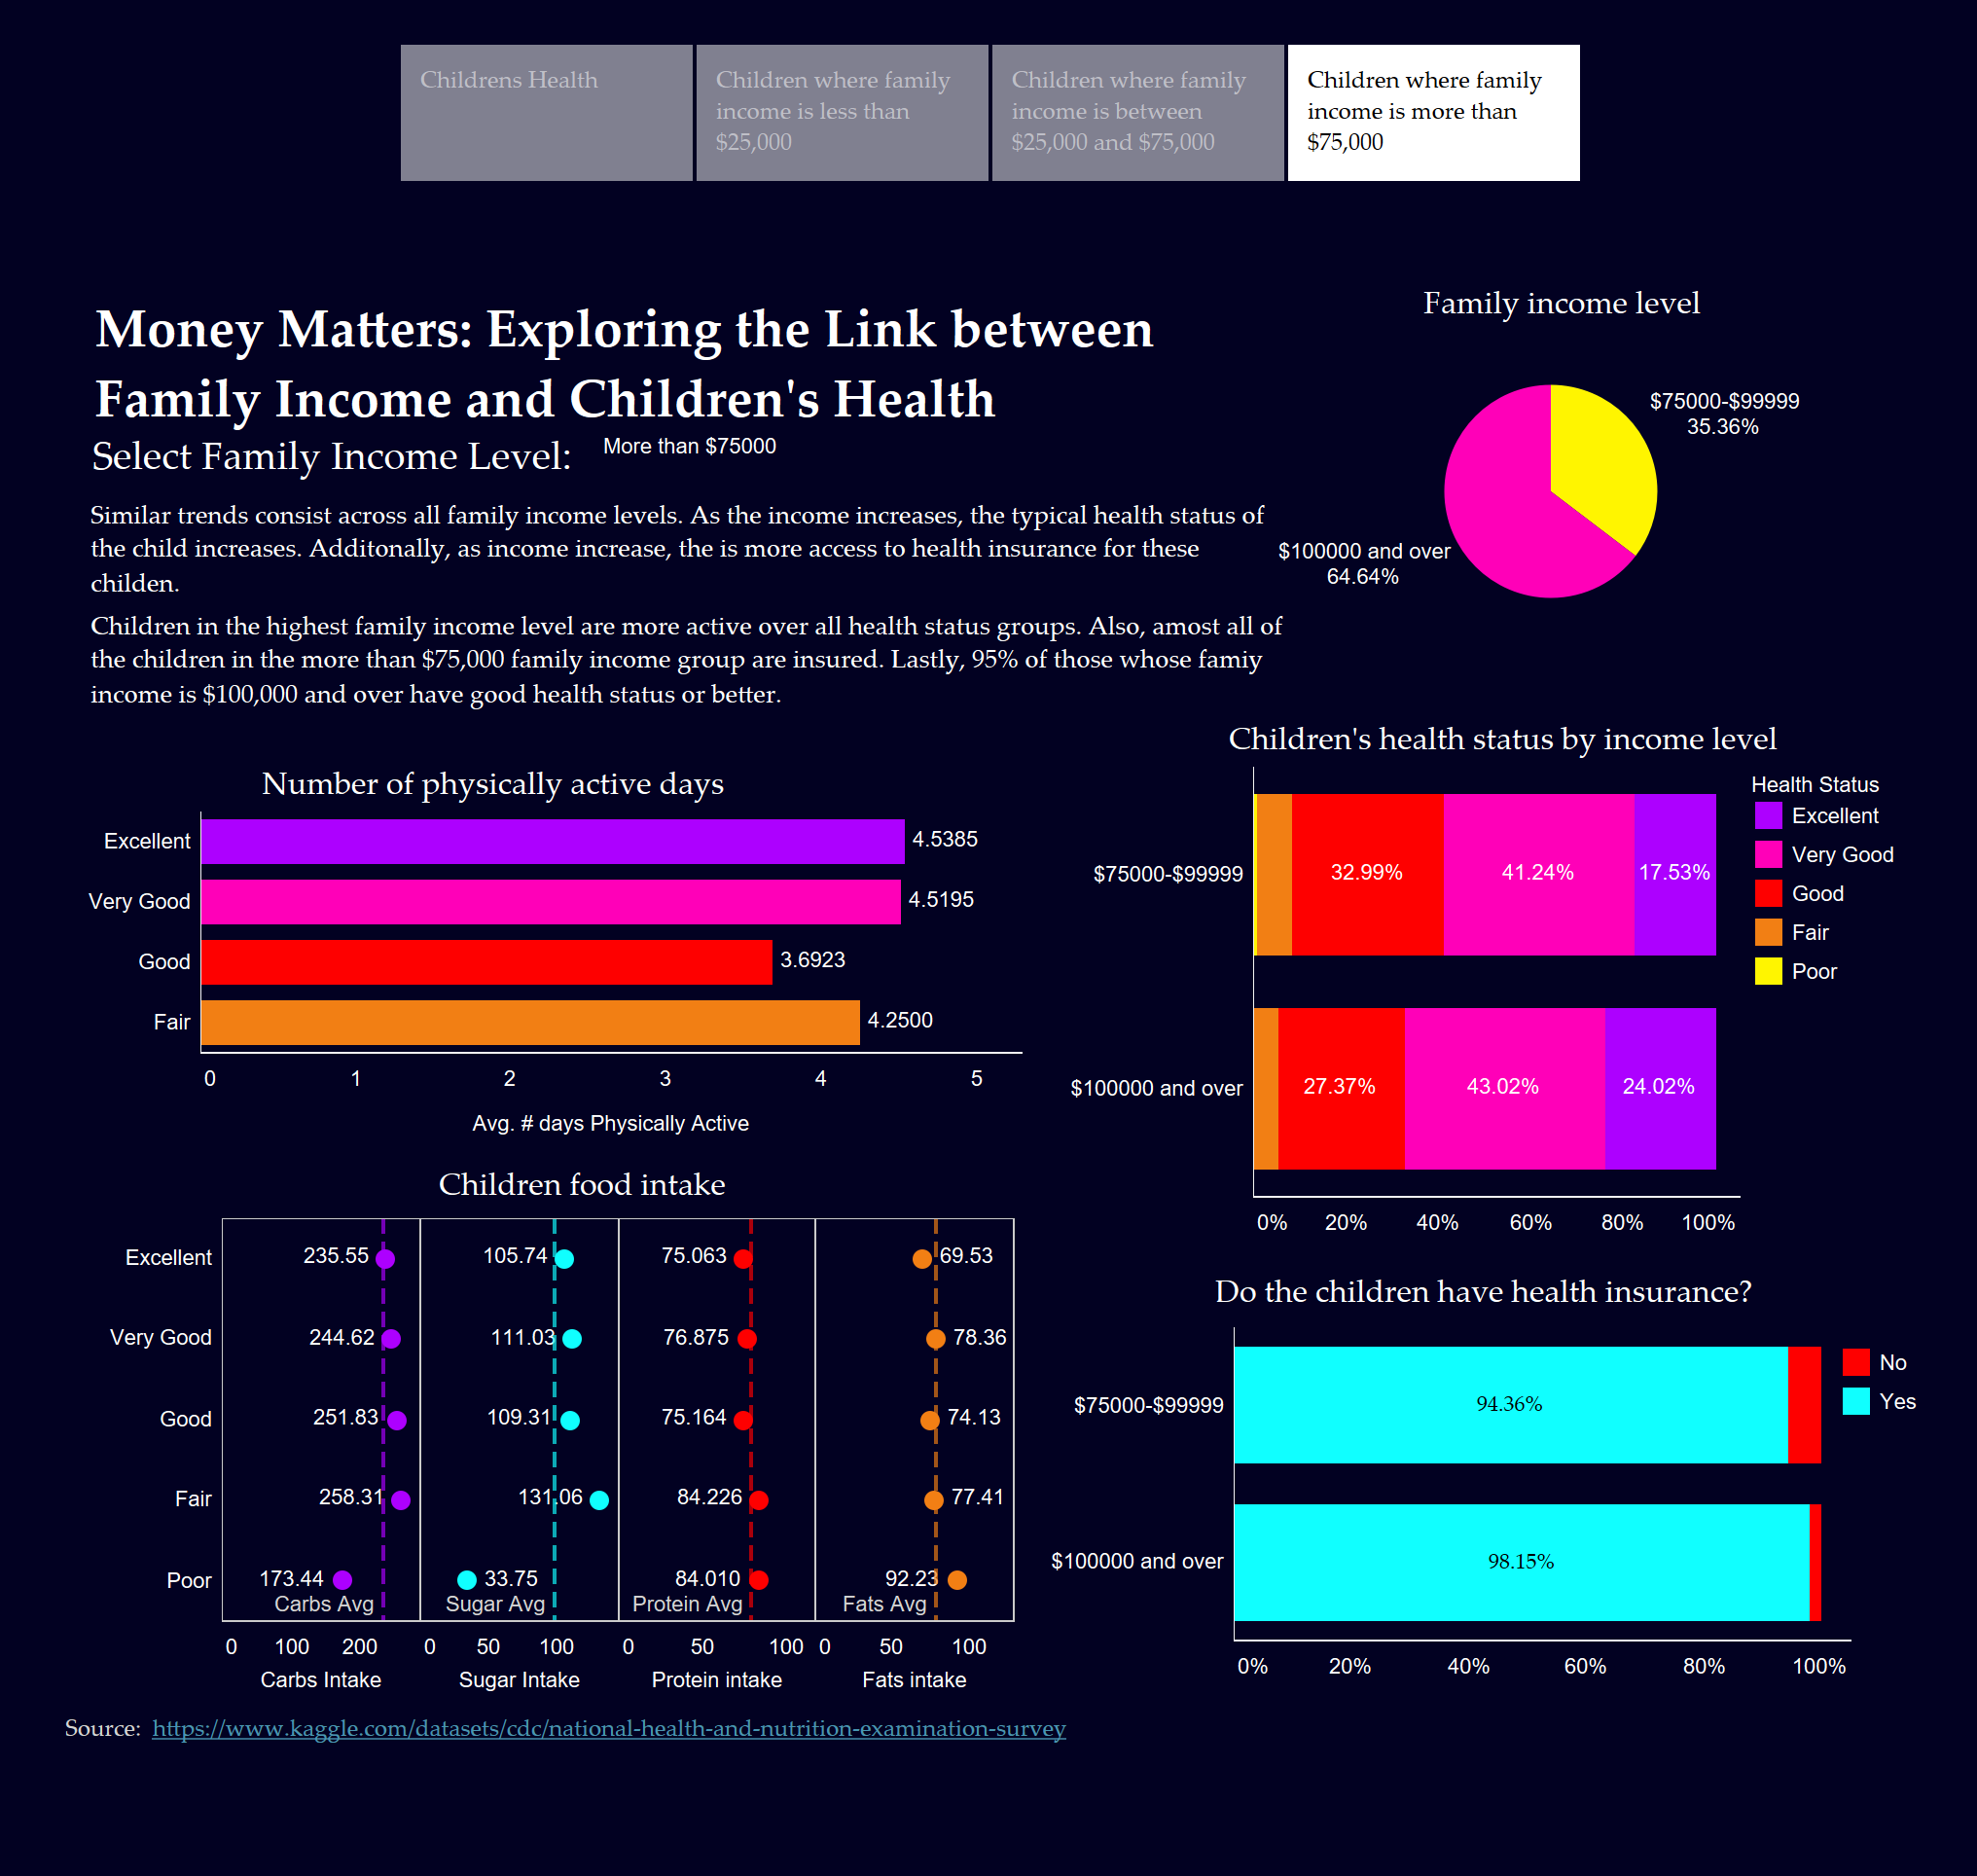

The dashboard page shown, as its layout file describes it:
{"tool":"tableau","page":{"name":"Trends","canvas":[1000,800],"ordinal":0},"visuals":[{"type":"text","box":[38,16,572,123]},{"type":"text","box":[721,20,160,52]},{"type":"worksheet","title":"Income","mark":"Pie","box":[611,34,356,219]},{"type":"text","box":[37,104,269,42]},{"type":"filter","title":"Income","param":"[federated.1q192nx11ypjns1g9qjly18qwb9i].[none:Income Level:nk]","box":[300,114,168,50]},{"type":"text","box":[36,142,613,62]},{"type":"text","box":[621,244,296,52]},{"type":"text","box":[124,262,311,62]},{"type":"worksheet","title":"Fam In Health Status","mark":"Automatic","rows":["family income"],"box":[536,285,350,251]},{"type":"legend","title":"Fam In Health Status","param":"[federated.1q192nx11ypjns1g9qjly18qwb9i].[none:Health Status:nk]","box":[891,286,97,116]},{"type":"worksheet","title":"Physical Activity","mark":"Automatic","rows":["Health Status"],"cols":["Calculation_874542771928481796"],"box":[15,308,502,174]},{"type":"text","box":[215,468,311,62]},{"type":"worksheet","title":"Health Status and Food Intake","mark":"Circle","rows":["Health Status"],"cols":["Carbs intake","Sugar intake","Protein intake","Fats intake"],"box":[26,517,488,245]},{"type":"text","box":[614,528,290,52]},{"type":"worksheet","title":"Health Insurance % by familiy income","mark":"Automatic","rows":["family income"],"box":[526,573,417,191]},{"type":"legend","title":"Health Insurance % by familiy income","param":"[federated.1q192nx11ypjns1g9qjly18qwb9i].[none:Health Insured:nk]","box":[936,581,68,61]},{"type":"text","box":[23,758,799,42]}]}

Visuals, with their boxes on the page's 1000x800 design canvas (x1, y1, x2, y2). These are canvas units, not pixel positions in the 1977x1876 screenshot, which may show the page scaled, cropped or inside an application window:
text: [x1=38, y1=16, x2=610, y2=139]
text: [x1=721, y1=20, x2=881, y2=72]
"Income" worksheet (Pie marks): [x1=611, y1=34, x2=967, y2=253]
text: [x1=37, y1=104, x2=306, y2=146]
"Income" filter: [x1=300, y1=114, x2=468, y2=164]
text: [x1=36, y1=142, x2=649, y2=204]
text: [x1=621, y1=244, x2=917, y2=296]
text: [x1=124, y1=262, x2=435, y2=324]
"Fam In Health Status" worksheet: [x1=536, y1=285, x2=886, y2=536]
"Fam In Health Status" legend: [x1=891, y1=286, x2=988, y2=402]
"Physical Activity" worksheet: [x1=15, y1=308, x2=517, y2=482]
text: [x1=215, y1=468, x2=526, y2=530]
"Health Status and Food Intake" worksheet (Circle marks): [x1=26, y1=517, x2=514, y2=762]
text: [x1=614, y1=528, x2=904, y2=580]
"Health Insurance % by familiy income" worksheet: [x1=526, y1=573, x2=943, y2=764]
"Health Insurance % by familiy income" legend: [x1=936, y1=581, x2=1004, y2=642]
text: [x1=23, y1=758, x2=822, y2=800]
